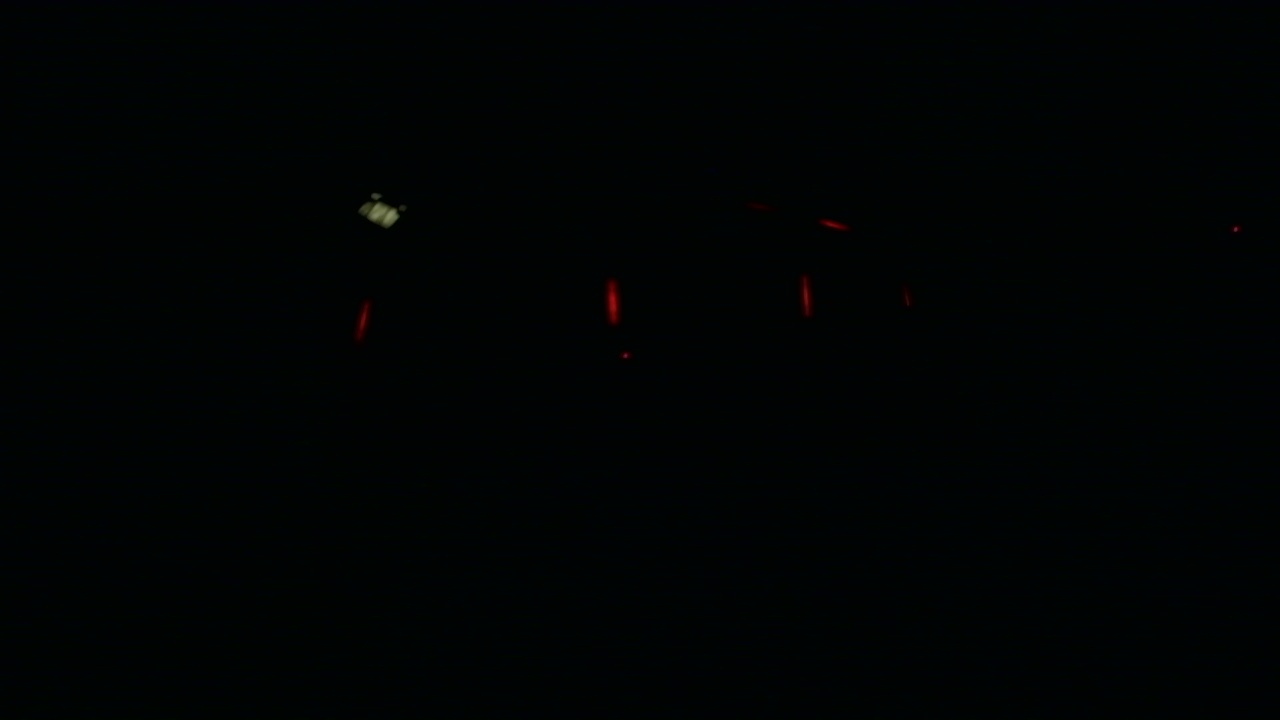lamp: (346, 296, 375, 339), (605, 281, 622, 318), (798, 277, 809, 319)
notpair2: (349, 281, 622, 339)
pair2: (605, 279, 811, 322)
